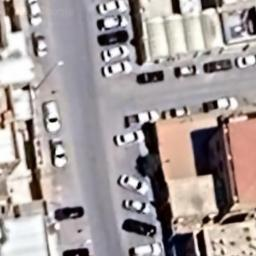SUV: (38, 98, 68, 134), (136, 67, 168, 88), (201, 58, 234, 74), (127, 242, 163, 256)
pickup: (123, 106, 161, 130), (202, 94, 240, 114), (97, 16, 133, 32)
sedan: (114, 169, 152, 197), (119, 195, 153, 218), (48, 137, 70, 170), (50, 204, 88, 222), (23, 1, 47, 29), (114, 128, 147, 148), (102, 60, 134, 80), (169, 63, 201, 83), (100, 44, 132, 62), (96, 32, 134, 47), (30, 32, 50, 58), (164, 105, 194, 122), (96, 1, 128, 16), (237, 52, 256, 69)
unknown: (120, 215, 158, 240), (61, 245, 92, 256)
